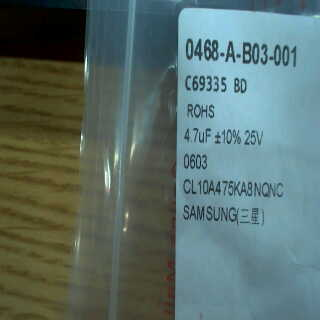4.7uF: (182, 122, 214, 149)
